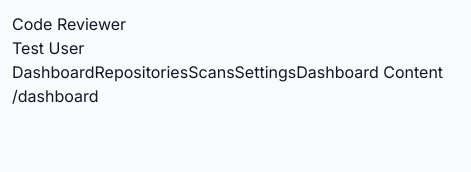
it: Sidebar Navigation Integration › Navigation Click Behavior › should navigate to repositories when clicking Repositories link
Expected: the text "Dashboard Content" is shown, [296,60,443,84]
Click the link with test id "nav-repositories".
click(141, 72)  # box [94,62,188,82]
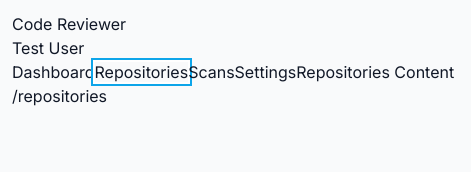
Now the text with test id "current-pathname" reads "/repositories", box [12,86,107,106]
Now the text "Repositories Content" is shown, box [296,60,454,84]
